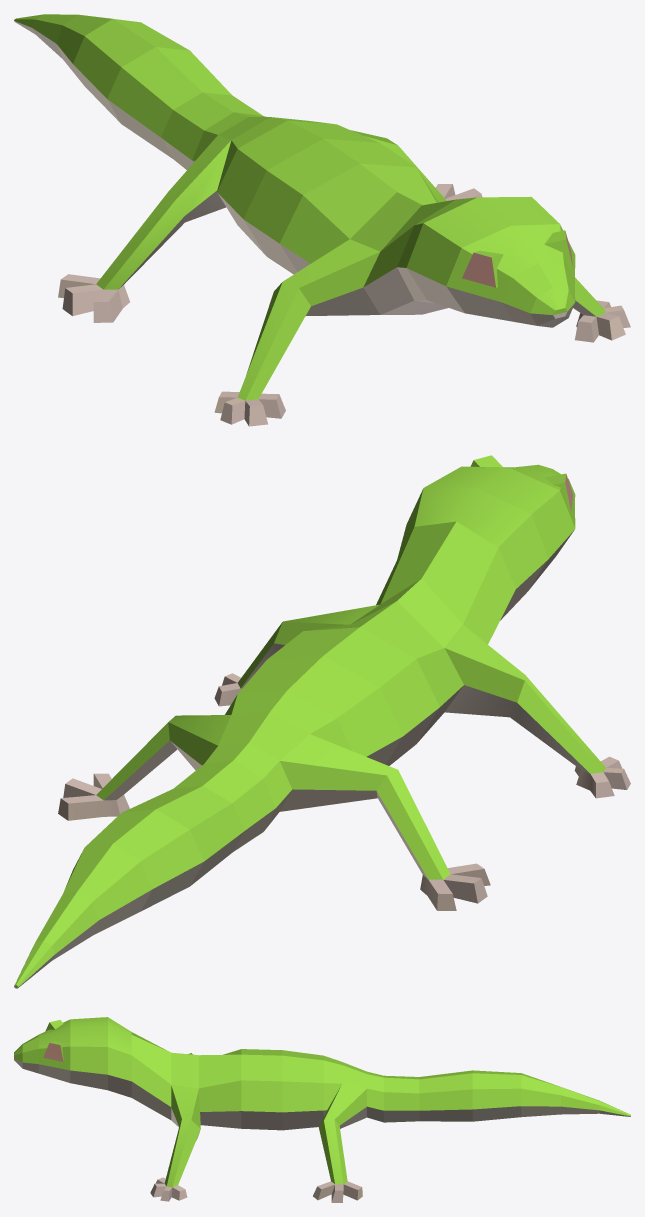
Rendered from animals-salamander-172.glb.
The picture shows the model from 3 angles, top to bottom: view 1: azimuth 30°, elevation 25°; view 2: azimuth 150°, elevation 25°; view 3: azimuth 270°, elevation 25°; orthographic projection. The views are drawn at different scales.
Visible parts, largest first — view 1: Geo_Gecko; view 2: Geo_Gecko; view 3: Geo_Gecko.
Boxes of the visible parts, box(x1,y1,x2,y2) form: Geo_Gecko: box(14, 14, 630, 426); Geo_Gecko: box(14, 455, 630, 988); Geo_Gecko: box(14, 1017, 630, 1202).
Size of the model in its own units: 54.11 by 26.48 by 123.
1 material, 1 textured.
